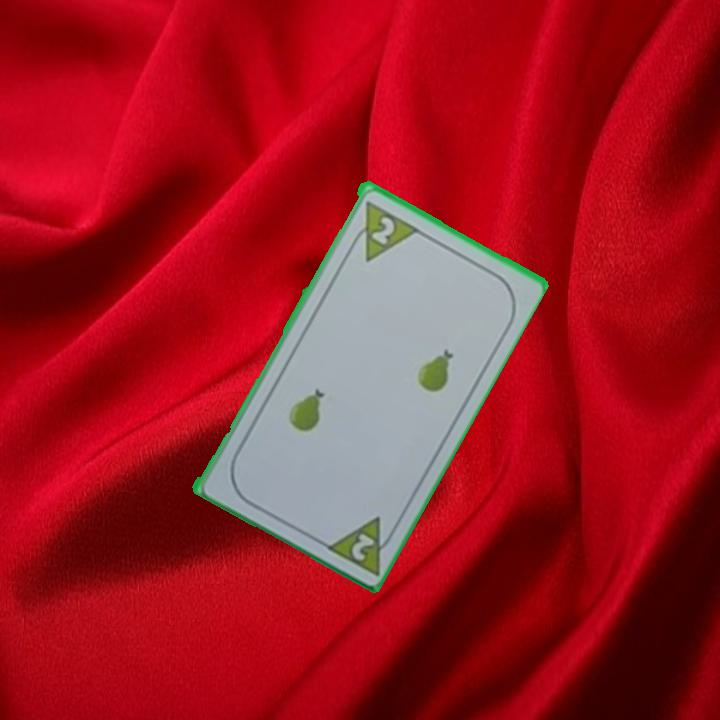2p: (319, 511, 401, 578), (367, 212, 398, 248)
